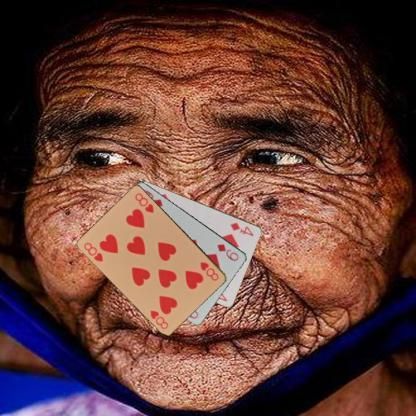4d: (228, 219, 256, 238)
8h: (198, 259, 220, 282), (82, 240, 104, 263)
9d: (214, 240, 240, 262)
